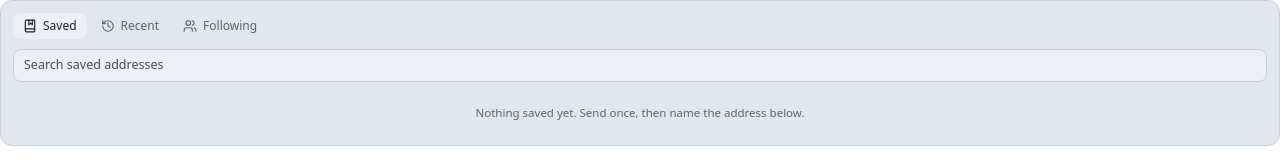
Test: empty and filtered states › says when a search matches nothing, rather than looking empty
Click the button "Recent": (130, 26) [91,13,169,39]
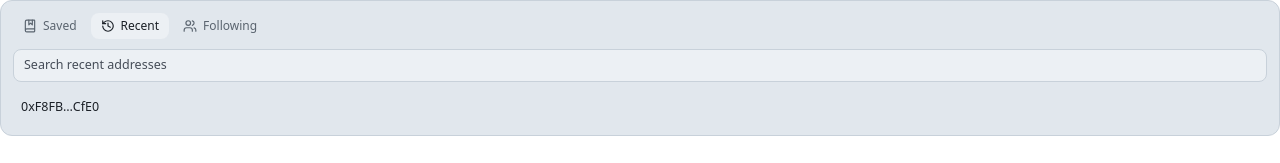
In the field labelled "Search recent addresses": (640, 65) [13,49,1267,82], type "zzzz"
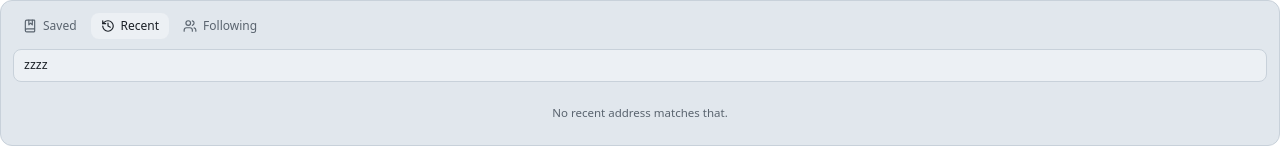
Check: the text "No recent address matches that." is shown, box [552,105,728,120]
